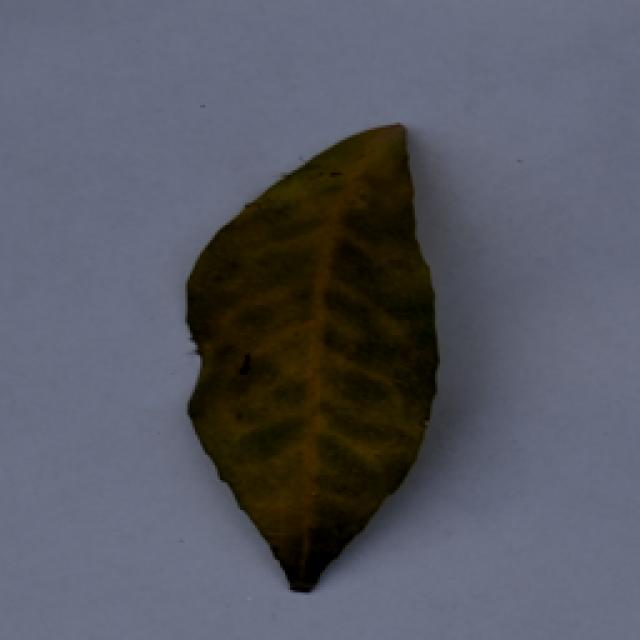greening: (149, 115, 467, 600)
